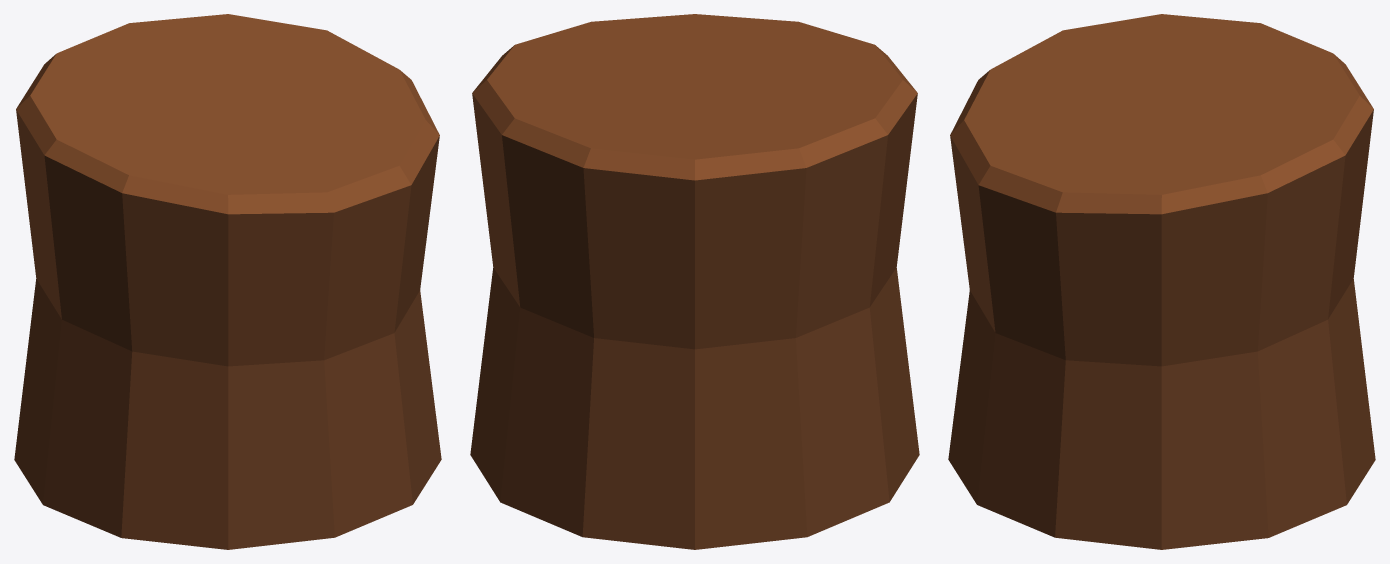
Rendered from Log_1.fbx.
3 views of the same model, side by side, from view 1: azimuth 30°, elevation 25°; view 2: azimuth 150°, elevation 25°; view 3: azimuth 270°, elevation 25° (orthographic). The views are drawn at different scales.
Visible parts, largest first — view 1: Log_1; view 2: Log_1; view 3: Log_1.
Boxes of the visible parts, left/top/right/bottom form: Log_1: left=14, top=14, right=441, bottom=549; Log_1: left=470, top=14, right=919, bottom=549; Log_1: left=948, top=14, right=1375, bottom=549.
Bounding box in the file's own units: 70.21 × 66.09 × 70.18.
